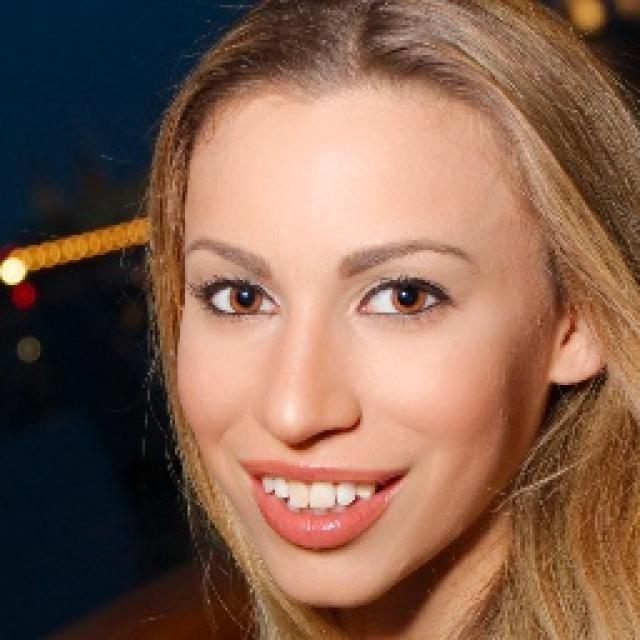earlobe: (546, 338, 590, 388)
eye: (356, 283, 446, 316), (200, 284, 272, 317)
nose: (253, 414, 359, 461)
wholeear: (546, 277, 615, 388)
